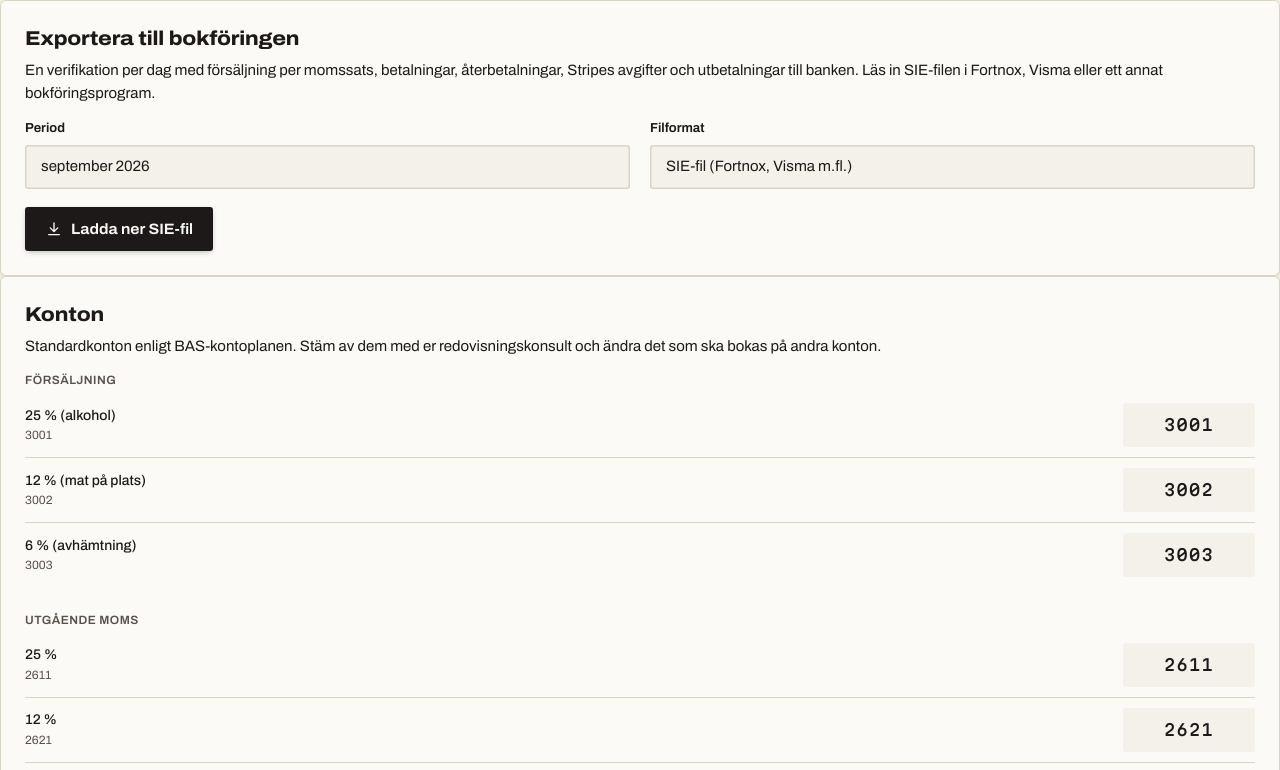
Test case: BokforingCard › explains a Stripe refusal in Swedish
Click the button "Ladda ner SIE-fil": (119, 229) [25, 207, 213, 251]
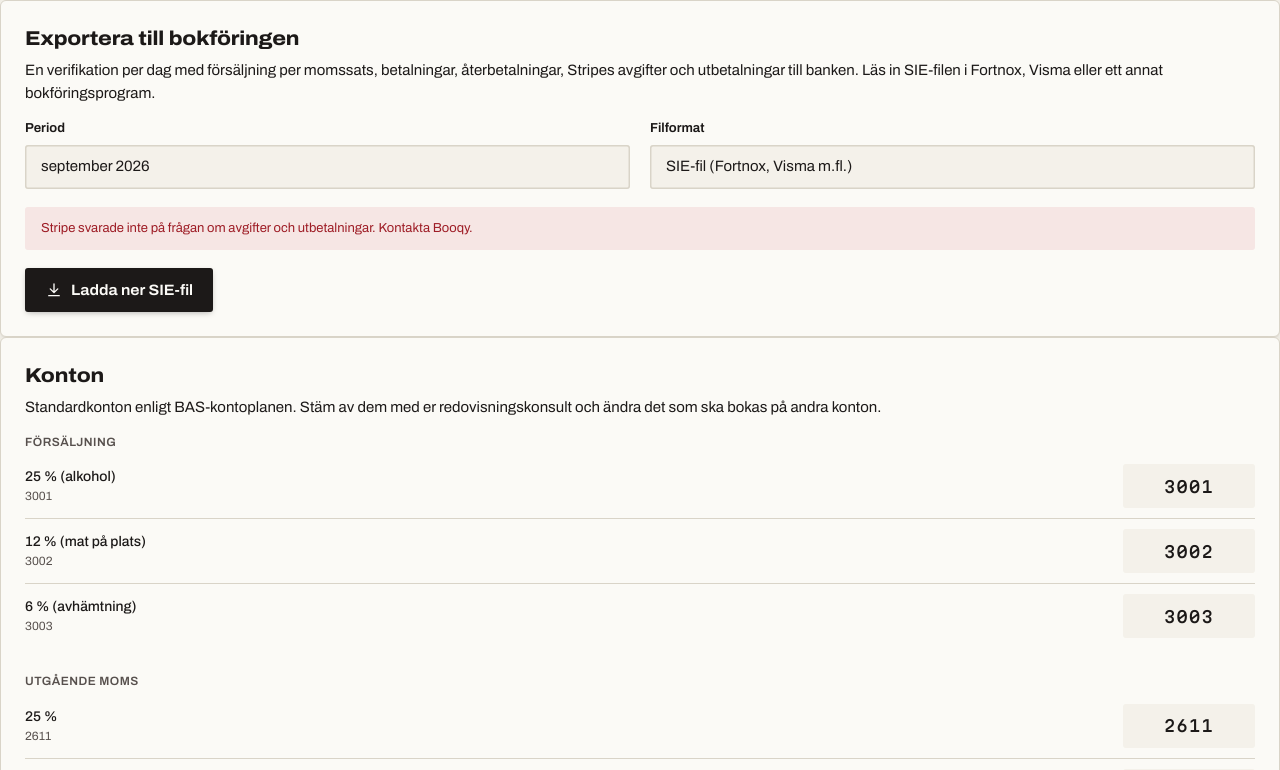
expect the message shows "Stripe svarade inte": met, box [41, 221, 473, 235]
